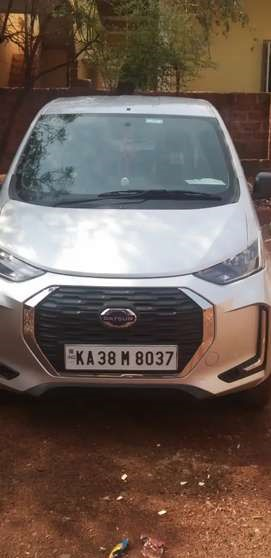KA38M8037: (65, 344, 177, 370)
